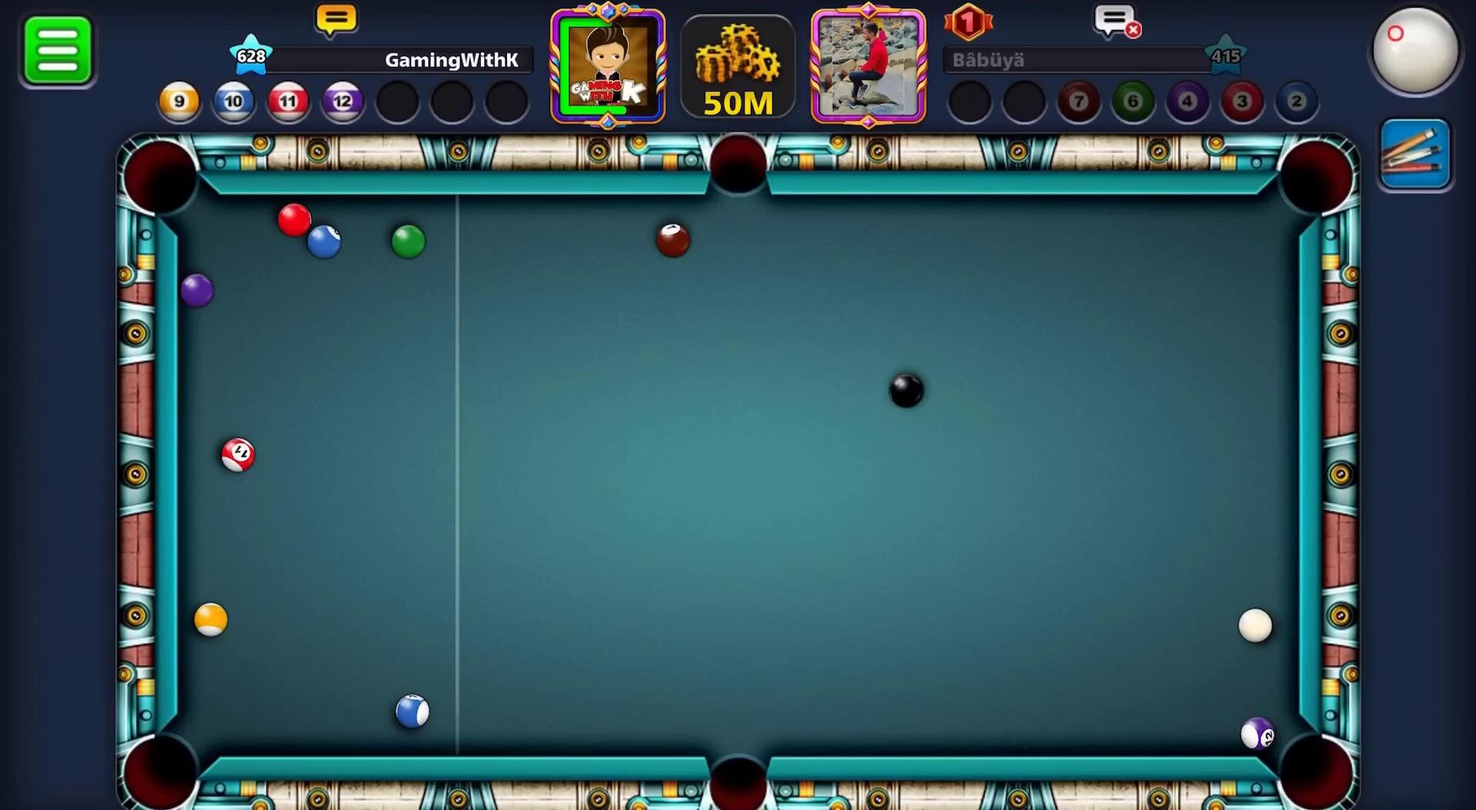Ball: (296, 221, 347, 267), (645, 216, 696, 260), (1233, 710, 1281, 755), (176, 265, 217, 313), (884, 369, 928, 412), (272, 197, 314, 238), (391, 692, 431, 731), (387, 222, 425, 260), (192, 600, 229, 639), (218, 433, 254, 472)
Hole: (110, 123, 221, 233), (102, 718, 221, 809), (1255, 711, 1364, 809), (1264, 127, 1364, 228), (694, 122, 788, 215), (690, 738, 785, 809)
Play_Area: (177, 195, 1297, 759)
Spin: (1362, 0, 1475, 111)
White: (1235, 600, 1281, 650)
